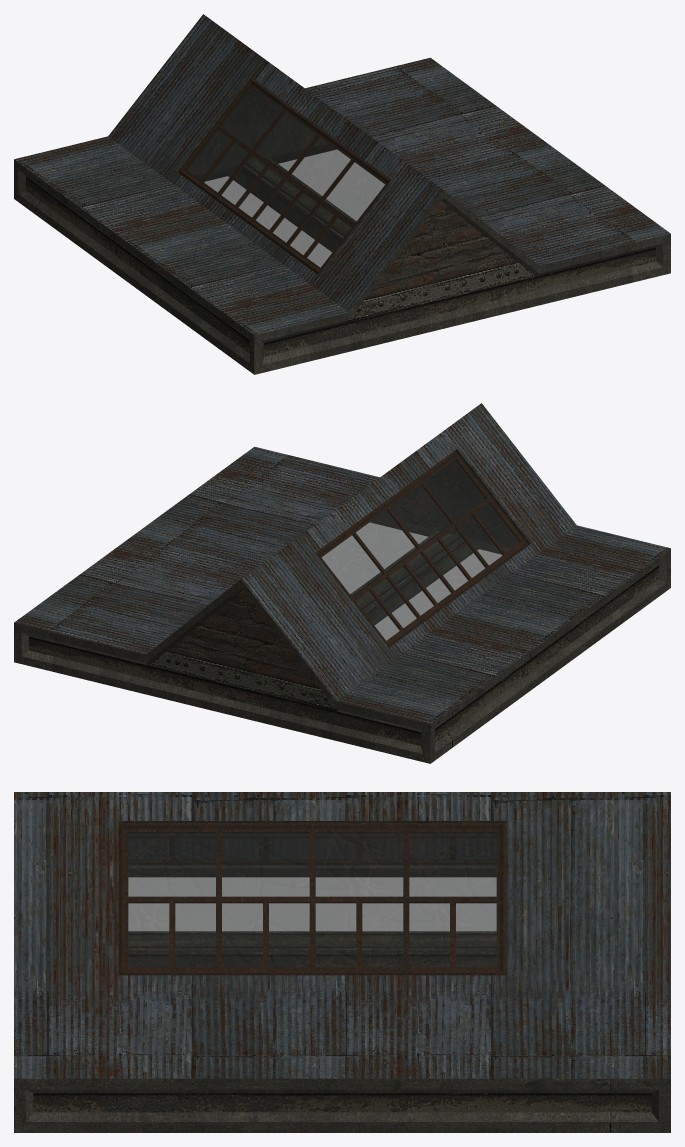
The model's file is roof_bx_1_corner_2.glb.
The picture shows the model from 3 angles, top to bottom: view 1: azimuth 30°, elevation 25°; view 2: azimuth 150°, elevation 25°; view 3: azimuth 270°, elevation 25°; orthographic projection. The views are drawn at different scales.
Visible parts, largest first — view 1: roof_bx_1_corner_2; view 2: roof_bx_1_corner_2; view 3: roof_bx_1_corner_2.
Part boxes in pixels (box(x1,y1,x2,y2)): roof_bx_1_corner_2: box(14, 14, 670, 374); roof_bx_1_corner_2: box(14, 403, 670, 763); roof_bx_1_corner_2: box(14, 792, 670, 1132).
Size of the model in its own units: 4.4 by 1.4 by 4.4.
Materials: 5 (5 with a texture image).
